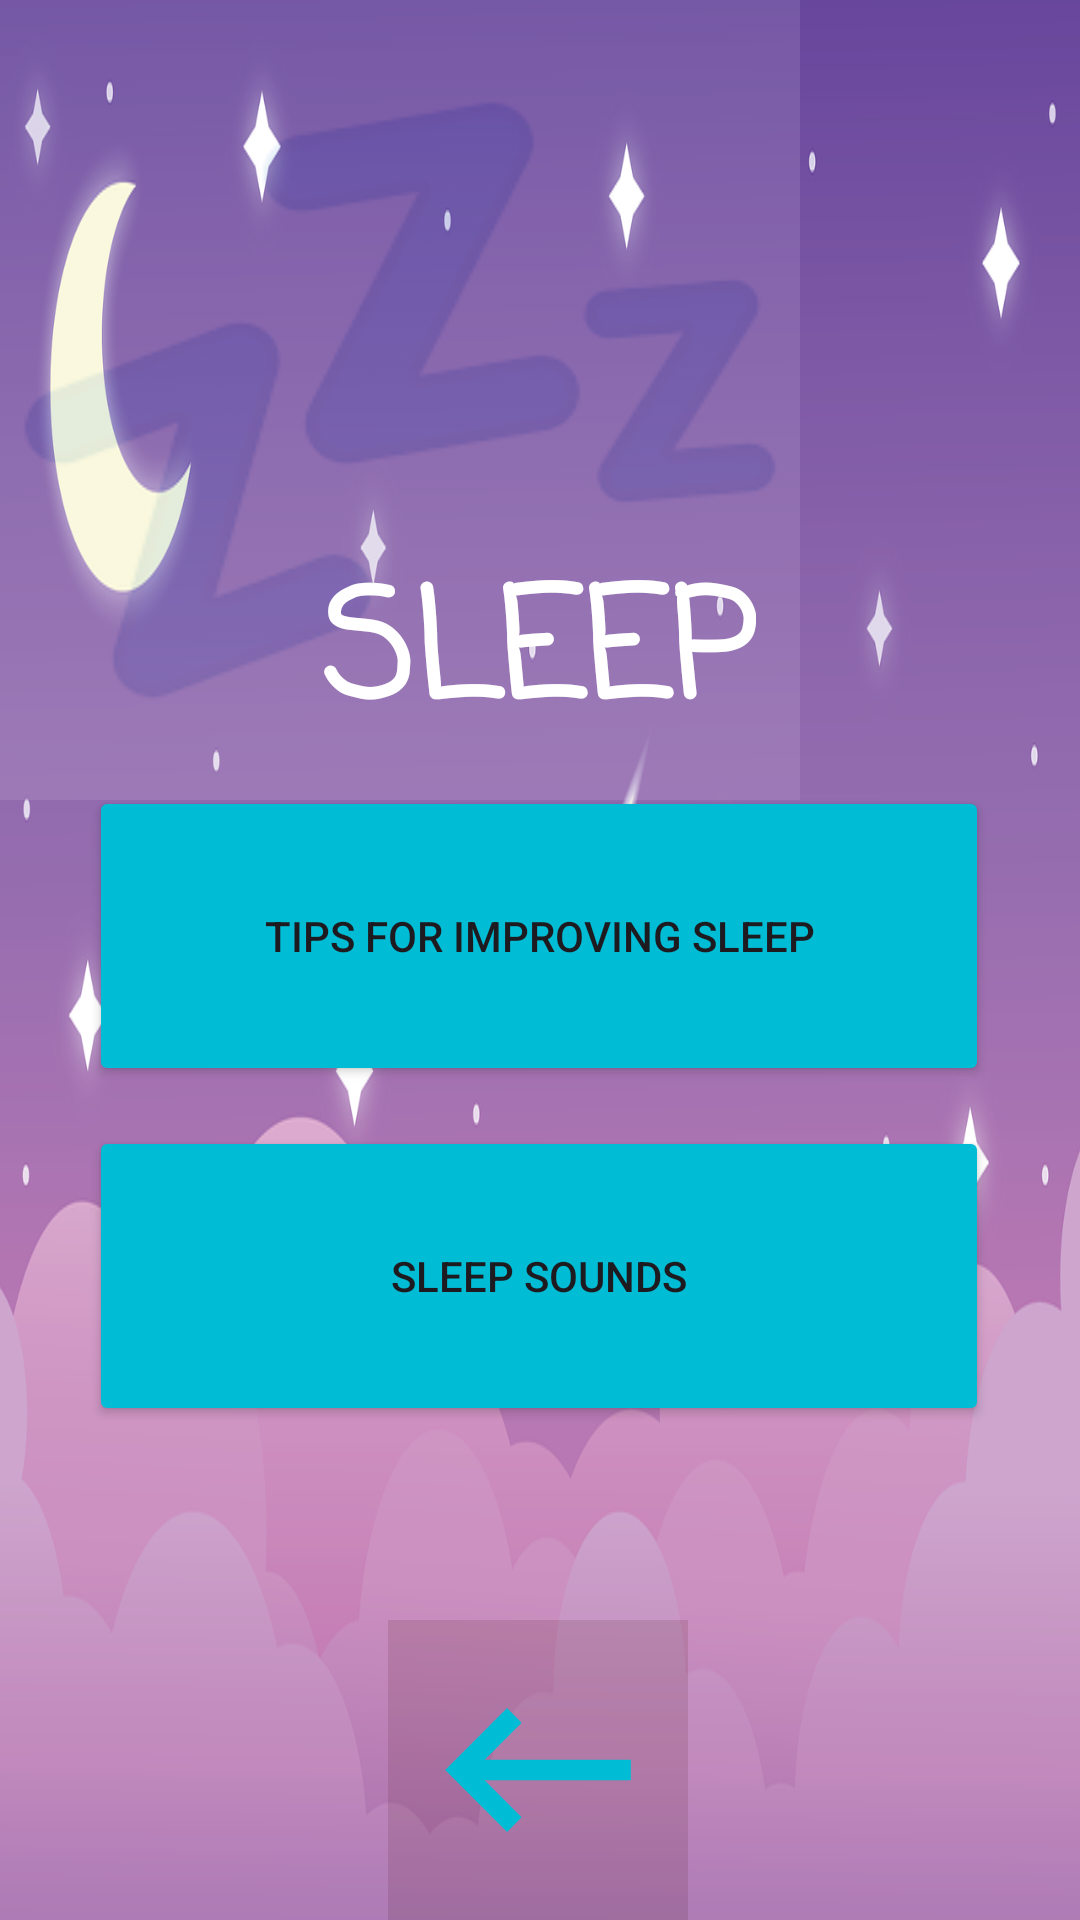

Named icons in this screenshot (1080*1920) and their bounding boxes, bbox=(x1, y1, x2, y2):
back: bbox=(388, 1661, 688, 1920)
